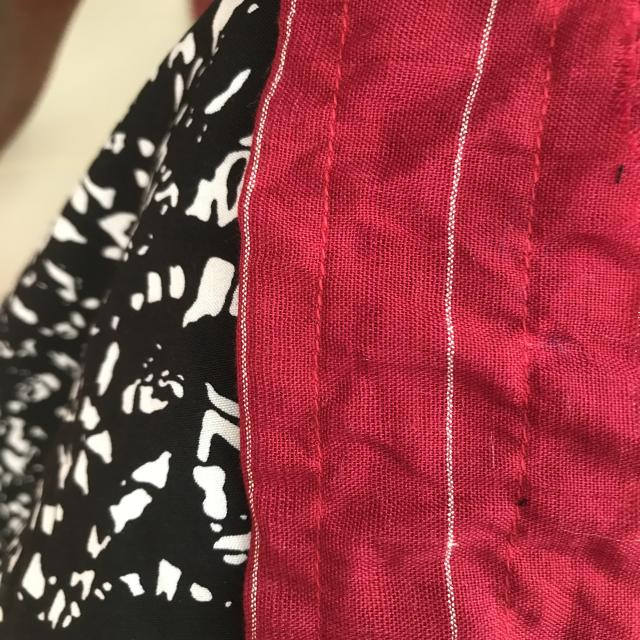good: (290, 302, 339, 518), (302, 130, 344, 258), (527, 104, 549, 217)
